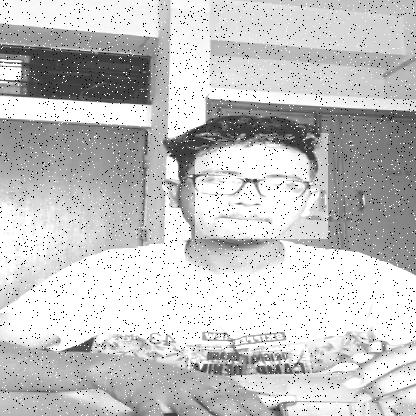Normal: (195, 133, 328, 239)
